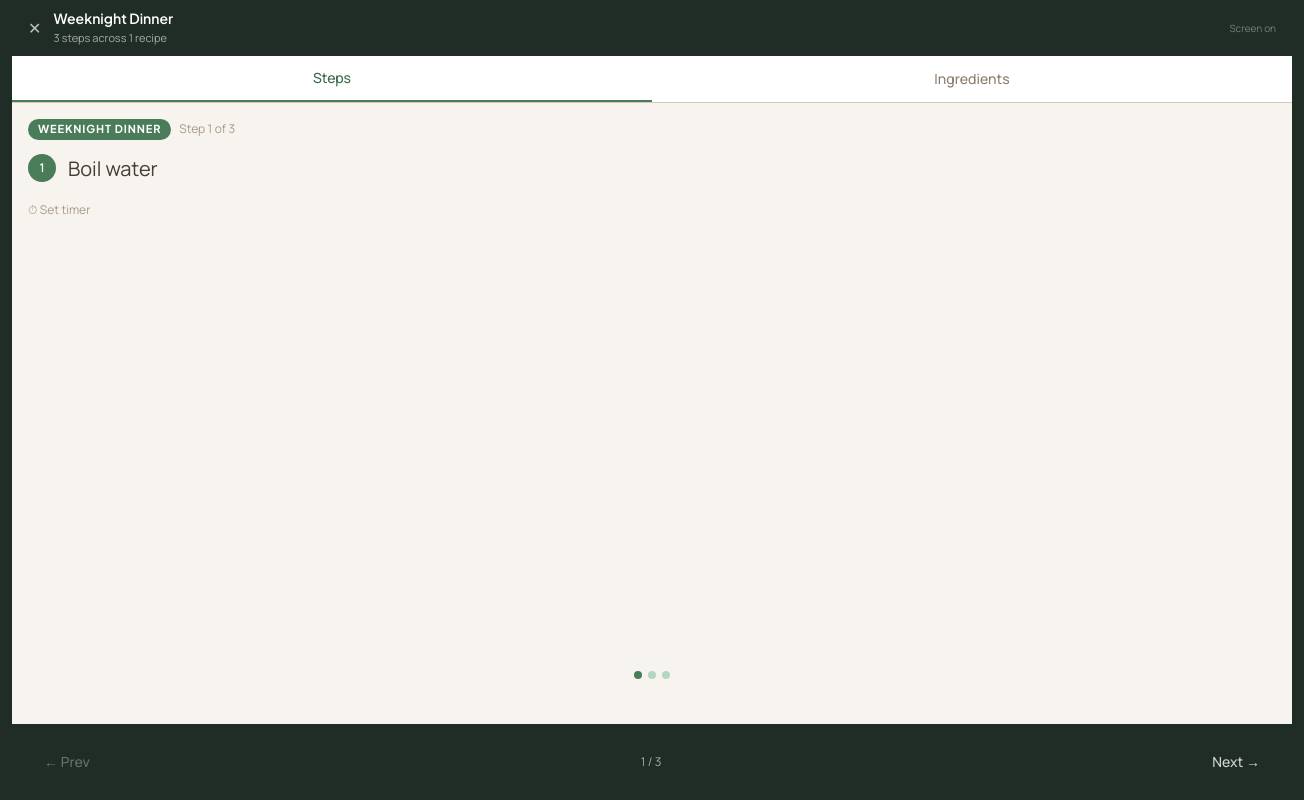
Test case: multi-recipe cook page — activeTab tab switching › regression: clicking Steps tab after switching to Ingredients returns to step content
The width and height of the screenshot is (1304, 800).
Click the button "Ingredients" at point(972, 79), box x1=652 y1=56 x2=1292 y2=102
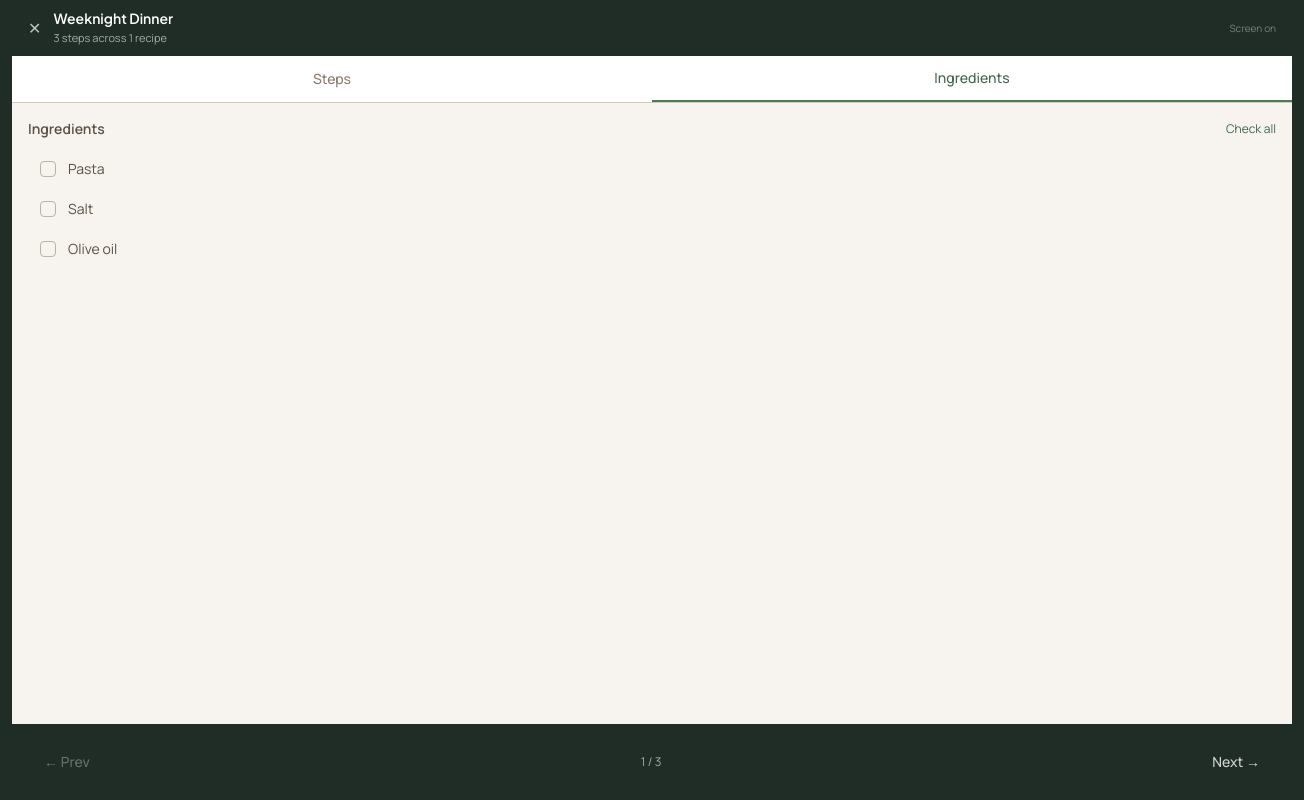
Click the button "Steps" at point(332, 79), box x1=12 y1=56 x2=652 y2=102
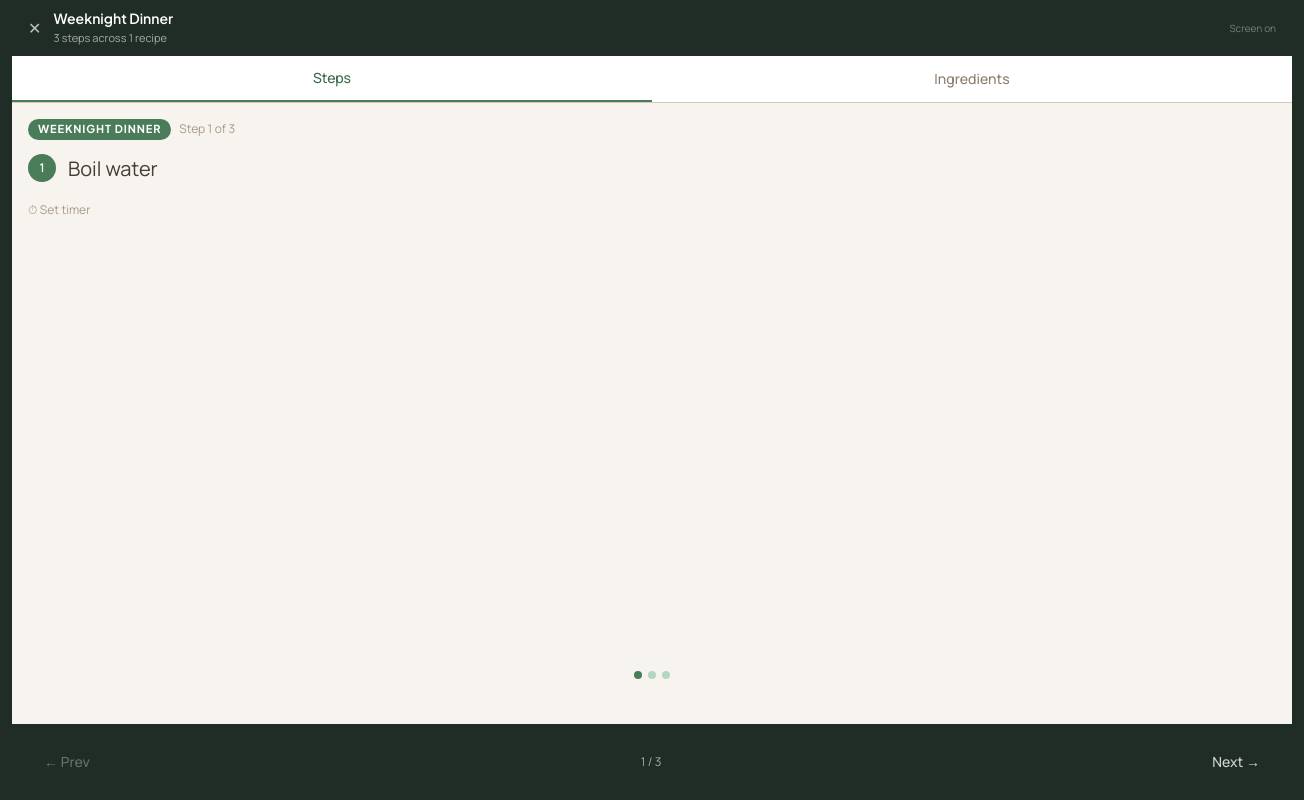
Now the text "Boil water" is shown, box x1=68 y1=152 x2=158 y2=186
Now the button "Pasta" is gone
